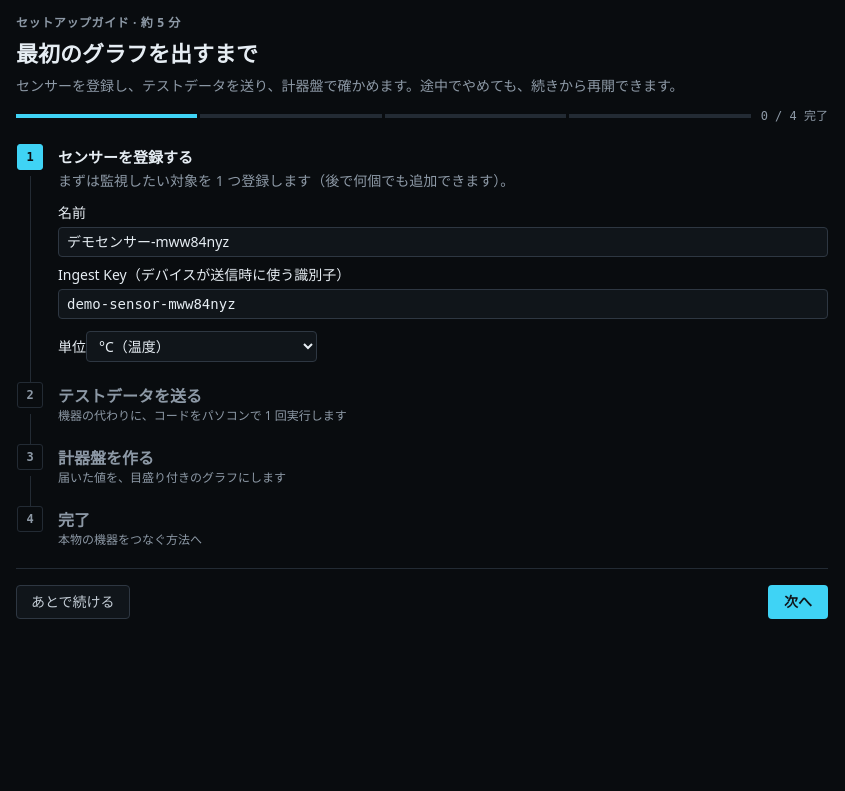
Test case: SetupWizard › フォーム送信で createSensor を呼んで、段階 2（テストデータを送る）へ進む
Replace the text in the field labelled "名前" with "テスト温度計" at (443, 242), box [58,226,828,256]
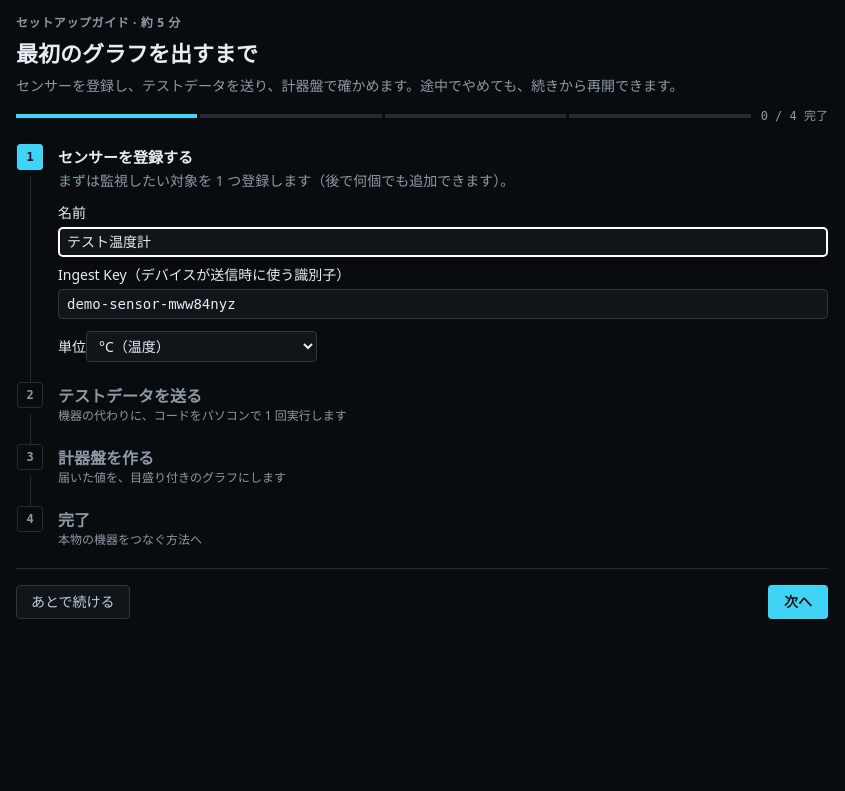
Click the button "次へ" at (798, 602), box [768,584,828,618]
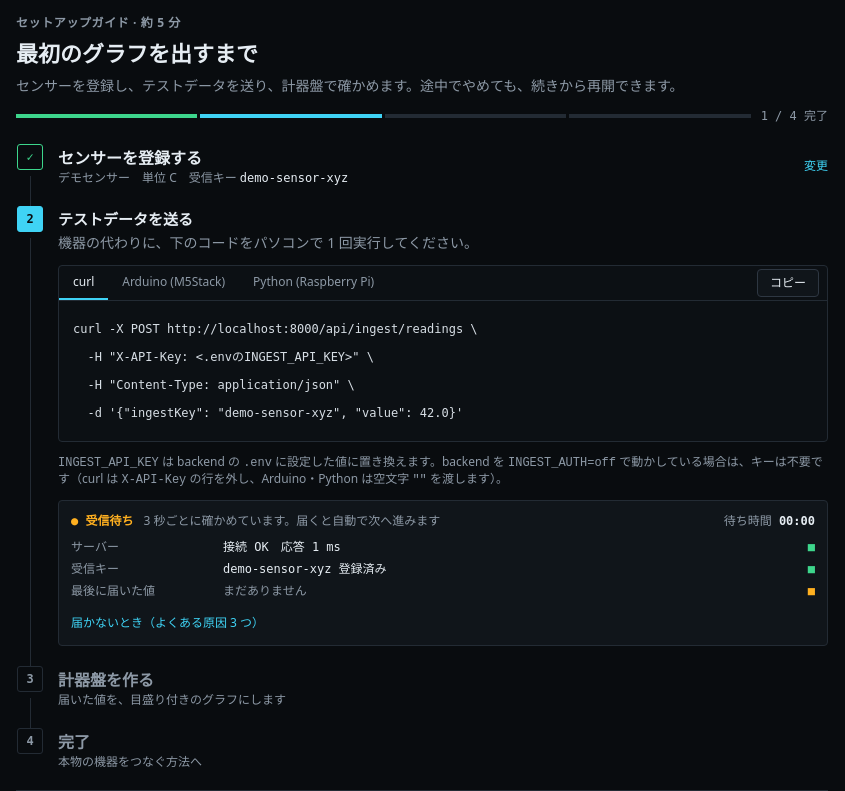
Expected: the text "機器の代わりに、下のコードをパソコンで 1 回実行してください。" is shown, [58,232,478,252]
Expected: the text "1 / 4 完了" is shown, [761,108,828,124]
Expected: the text "demo-sensor-xyz" is shown, [240,171,348,185]
